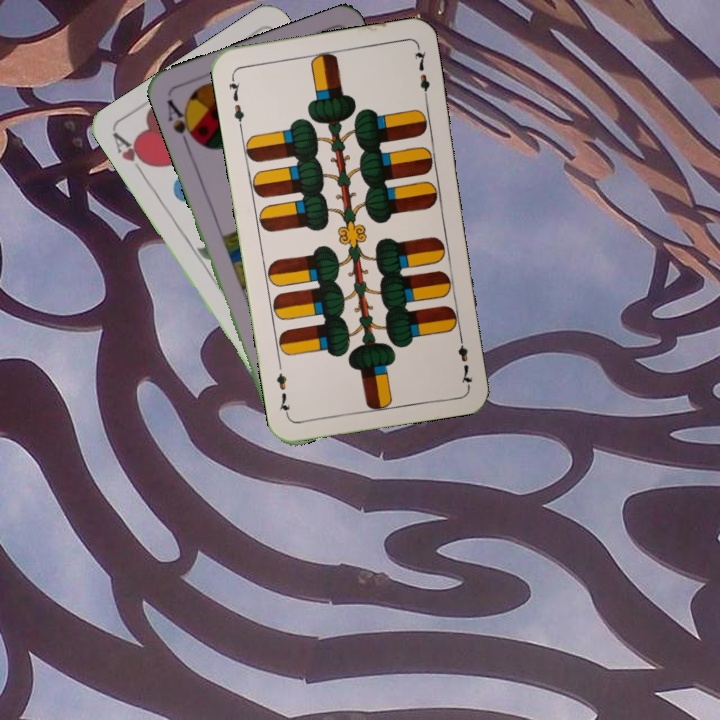E7: (224, 72, 247, 131), (453, 329, 474, 388)
HA: (109, 129, 154, 182)
SA: (163, 95, 201, 150)
